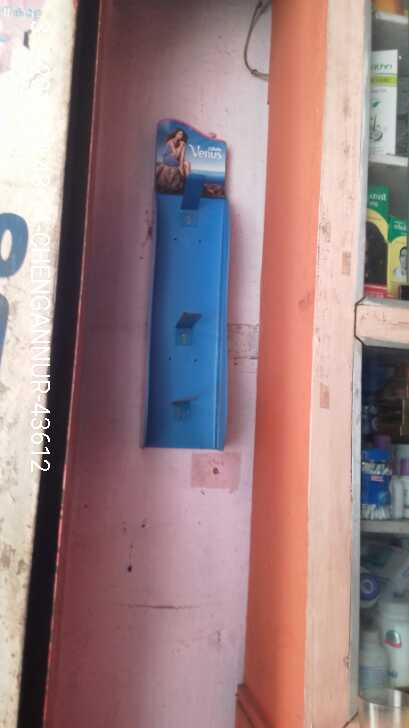reject: (180, 285, 255, 401)
